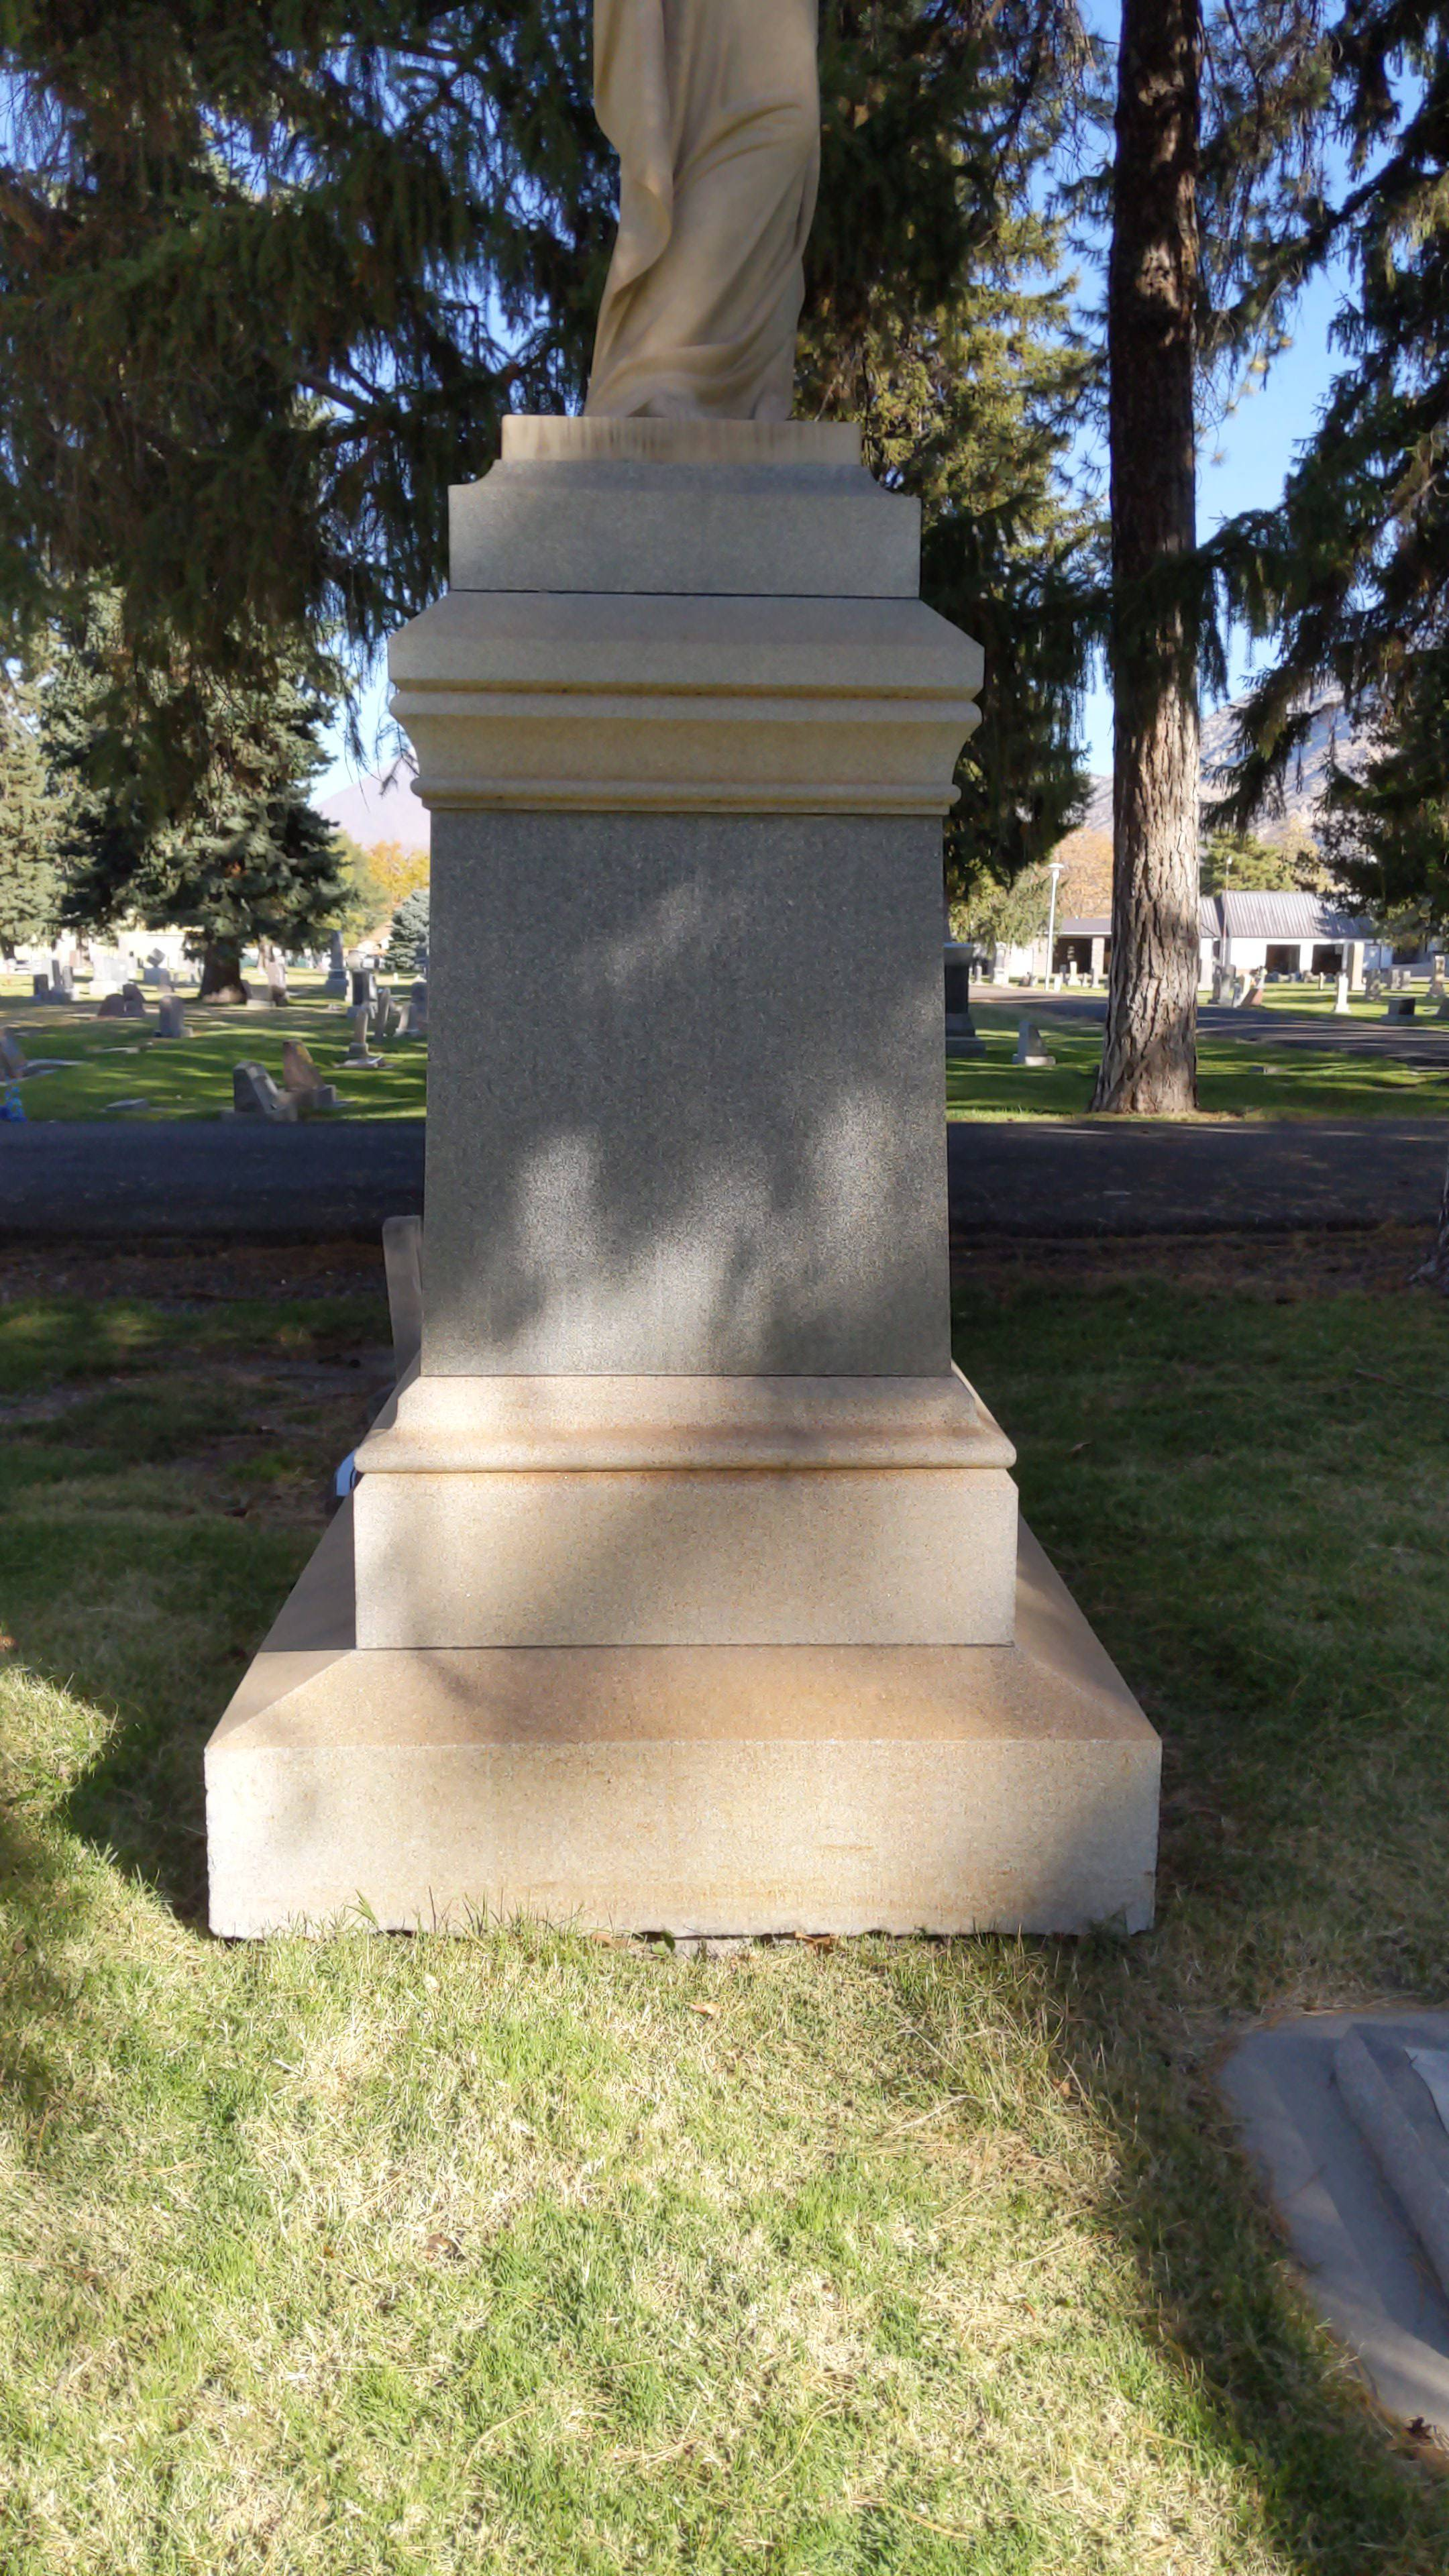obelisk: (350, 416, 1010, 1649)
